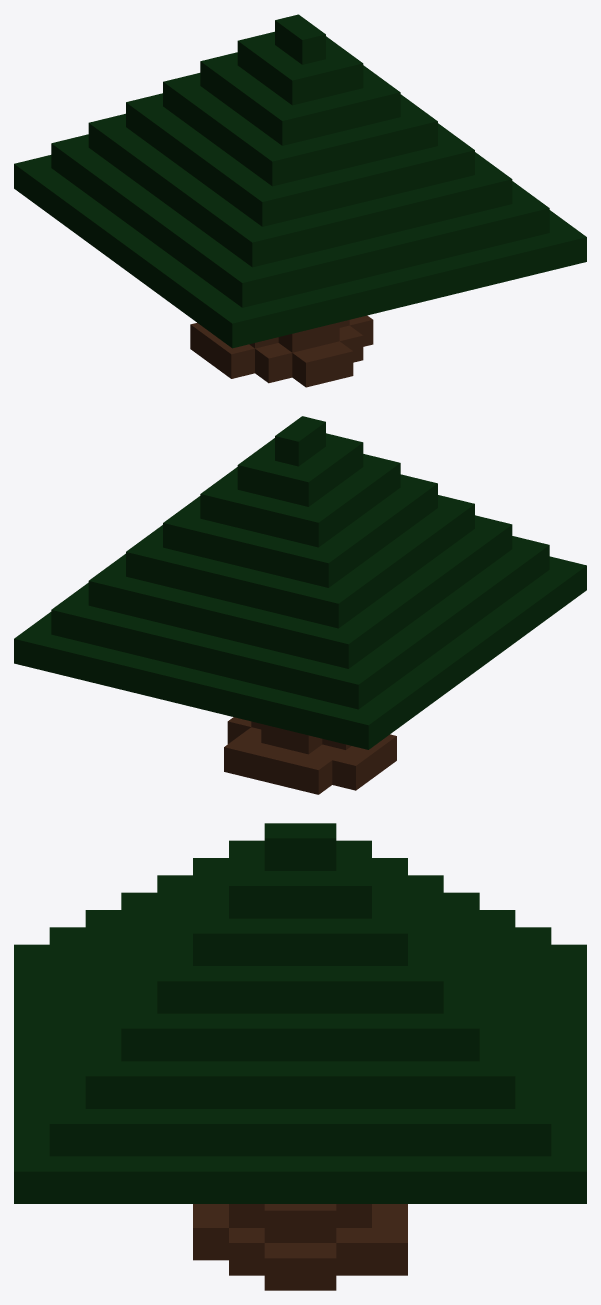
The model's file is Santiago_Correa_Fandiño_fase_3.obj.
The picture shows the model from 3 angles, top to bottom: view 1: azimuth 30°, elevation 25°; view 2: azimuth 150°, elevation 25°; view 3: azimuth 270°, elevation 25°; orthographic projection. The views are drawn at different scales.
Parts seen in each view (by area): view 1: Santiago_Correa_Fandiño_fase_3; view 2: Santiago_Correa_Fandiño_fase_3; view 3: Santiago_Correa_Fandiño_fase_3.
Boxes of the visible parts, box(x1,y1,x2,y2) form: Santiago_Correa_Fandiño_fase_3: box(14, 14, 586, 387); Santiago_Correa_Fandiño_fase_3: box(14, 416, 586, 794); Santiago_Correa_Fandiño_fase_3: box(14, 823, 586, 1290).
Bounding box in the file's own units: 15 × 13 × 16.
Materials: 1 (1 with a texture image).
